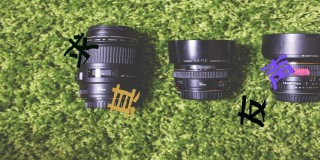其: (107, 83, 140, 117)
友: (238, 95, 266, 128)
声: (261, 53, 293, 89)
求: (63, 32, 98, 68)
